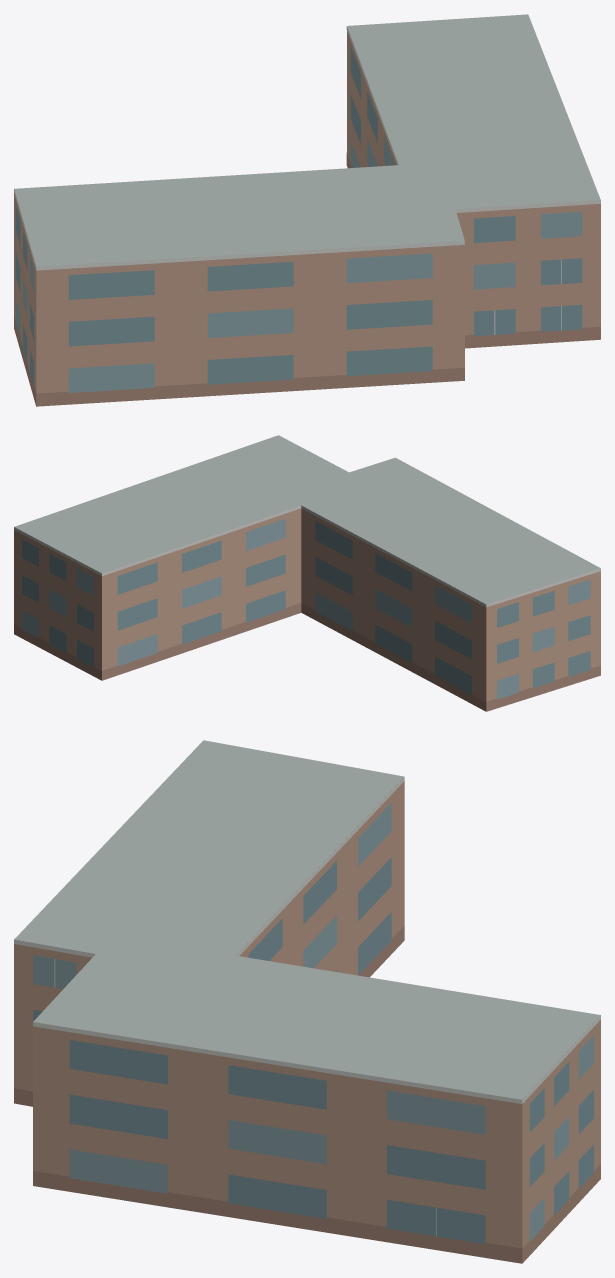
The model's file is survey-upis-32737720.glb.
3 views of the same model, one above another, from view 1: azimuth 30°, elevation 25°; view 2: azimuth 150°, elevation 25°; view 3: azimuth 270°, elevation 25° (orthographic). The views are drawn at different scales.
Parts seen in each view (by area): view 1: survey-upis-32737720.tmp; view 2: survey-upis-32737720.tmp; view 3: survey-upis-32737720.tmp.
Boxes of the visible parts, x1,y1,x2,y2 form: survey-upis-32737720.tmp: (14, 14, 600, 406); survey-upis-32737720.tmp: (14, 435, 600, 711); survey-upis-32737720.tmp: (14, 740, 600, 1263).
Size of the model in its own units: 43.05 by 9.15 by 29.69.
